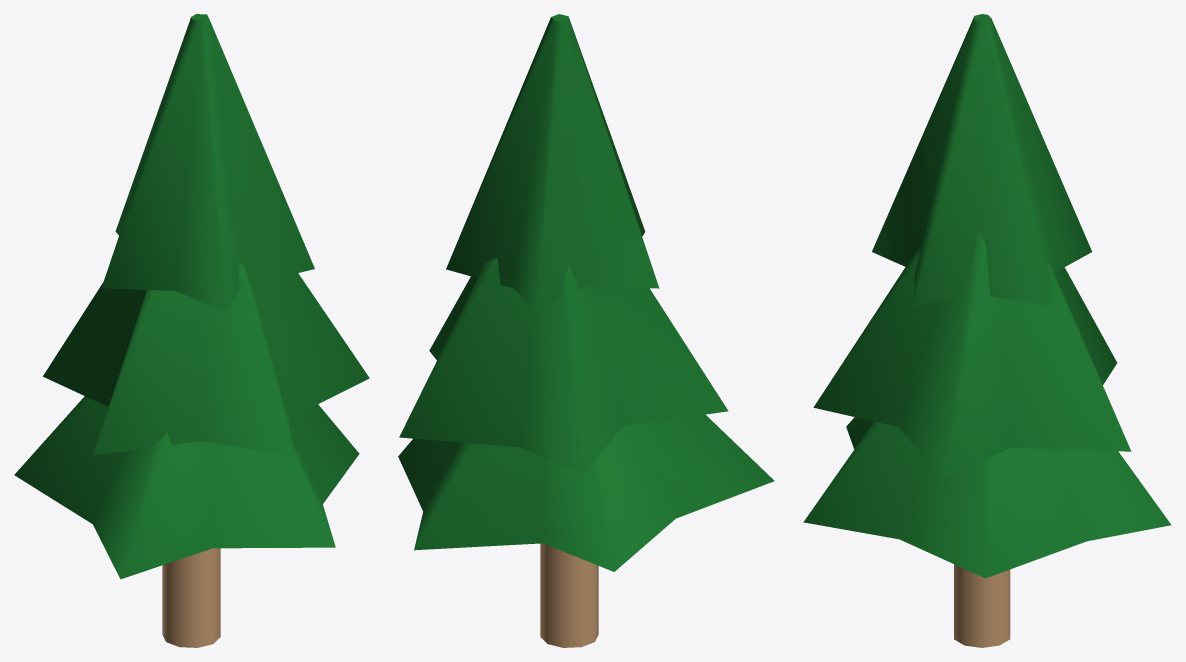
Rendered from Tree001.fbx.
3 renders of one model, left to right at view 1: azimuth 30°, elevation 25°; view 2: azimuth 150°, elevation 25°; view 3: azimuth 270°, elevation 25°, orthographic.
Visible parts, largest first — view 1: Cylinder058; view 2: Cylinder058; view 3: Cylinder058.
Part boxes in pixels (x1,y1,x2,y2): Cylinder058: (14, 14, 369, 647); Cylinder058: (398, 14, 774, 647); Cylinder058: (803, 14, 1171, 647).
Size of the model in its own units: 54.73 by 105 by 56.14.
2 materials, 2 textured.
